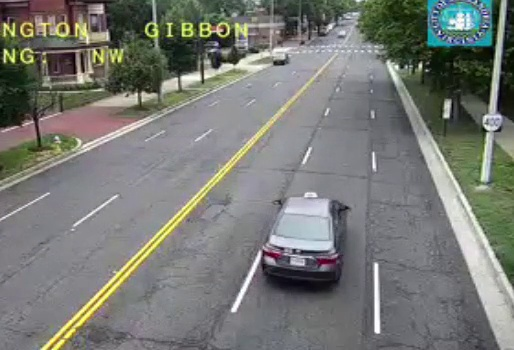car: (262, 196, 344, 283)
